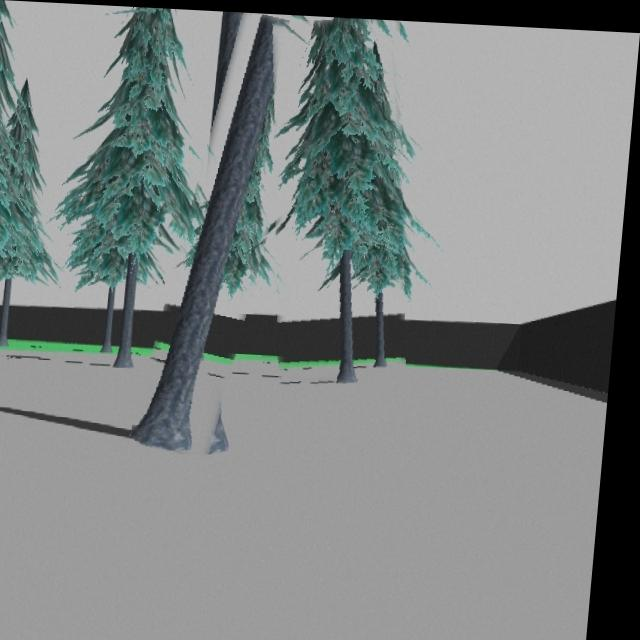tree: (137, 11, 292, 451), (277, 14, 406, 379)
